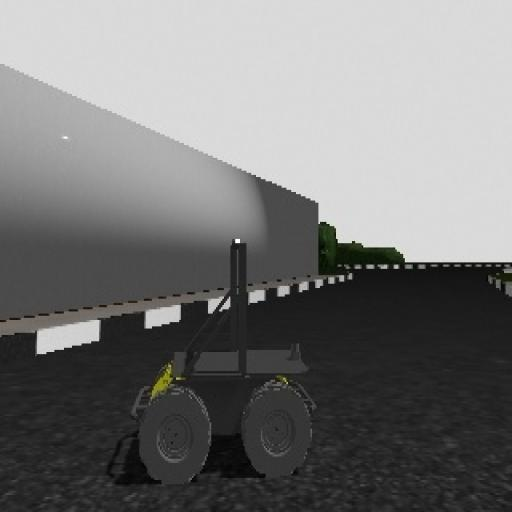huskya200: (101, 236, 331, 490)
